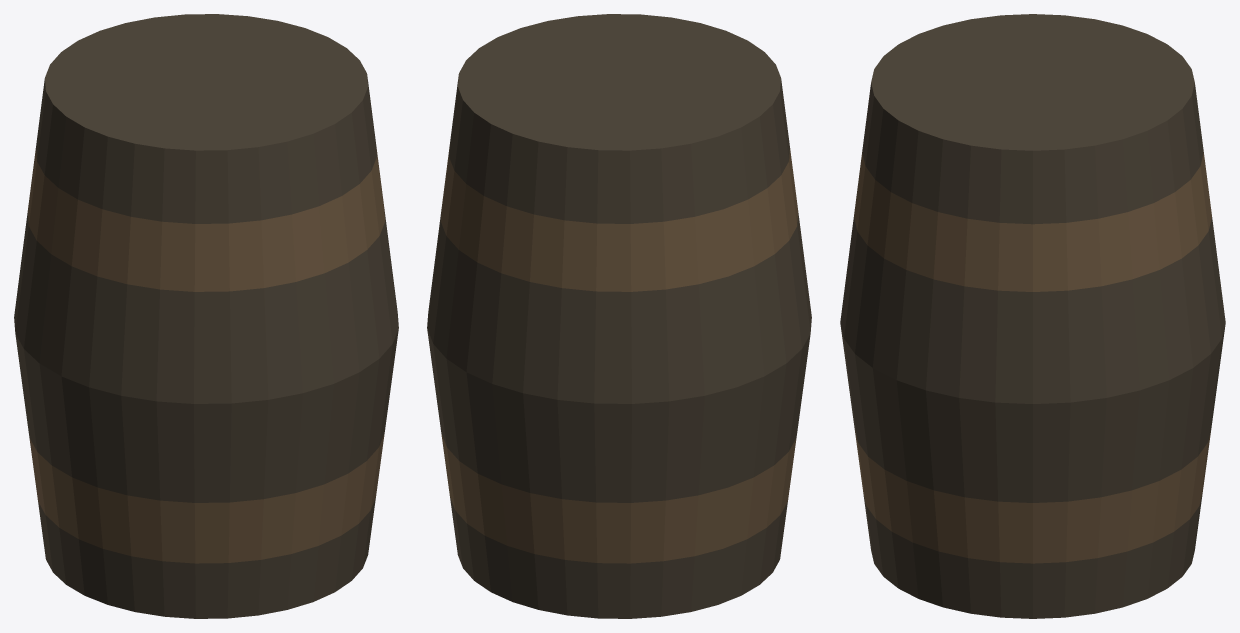
The model's file is Barrel.fbx.
3 views of the same model, side by side, from view 1: azimuth 30°, elevation 25°; view 2: azimuth 150°, elevation 25°; view 3: azimuth 270°, elevation 25° (orthographic).
Parts seen in each view (by area): view 1: Cylinder; view 2: Cylinder; view 3: Cylinder.
Part boxes in pixels (x1,y1,x2,y2): Cylinder: (14, 14, 398, 618); Cylinder: (427, 14, 811, 618); Cylinder: (840, 14, 1225, 618).
Bounding box in the file's own units: 238 × 319 × 238.
